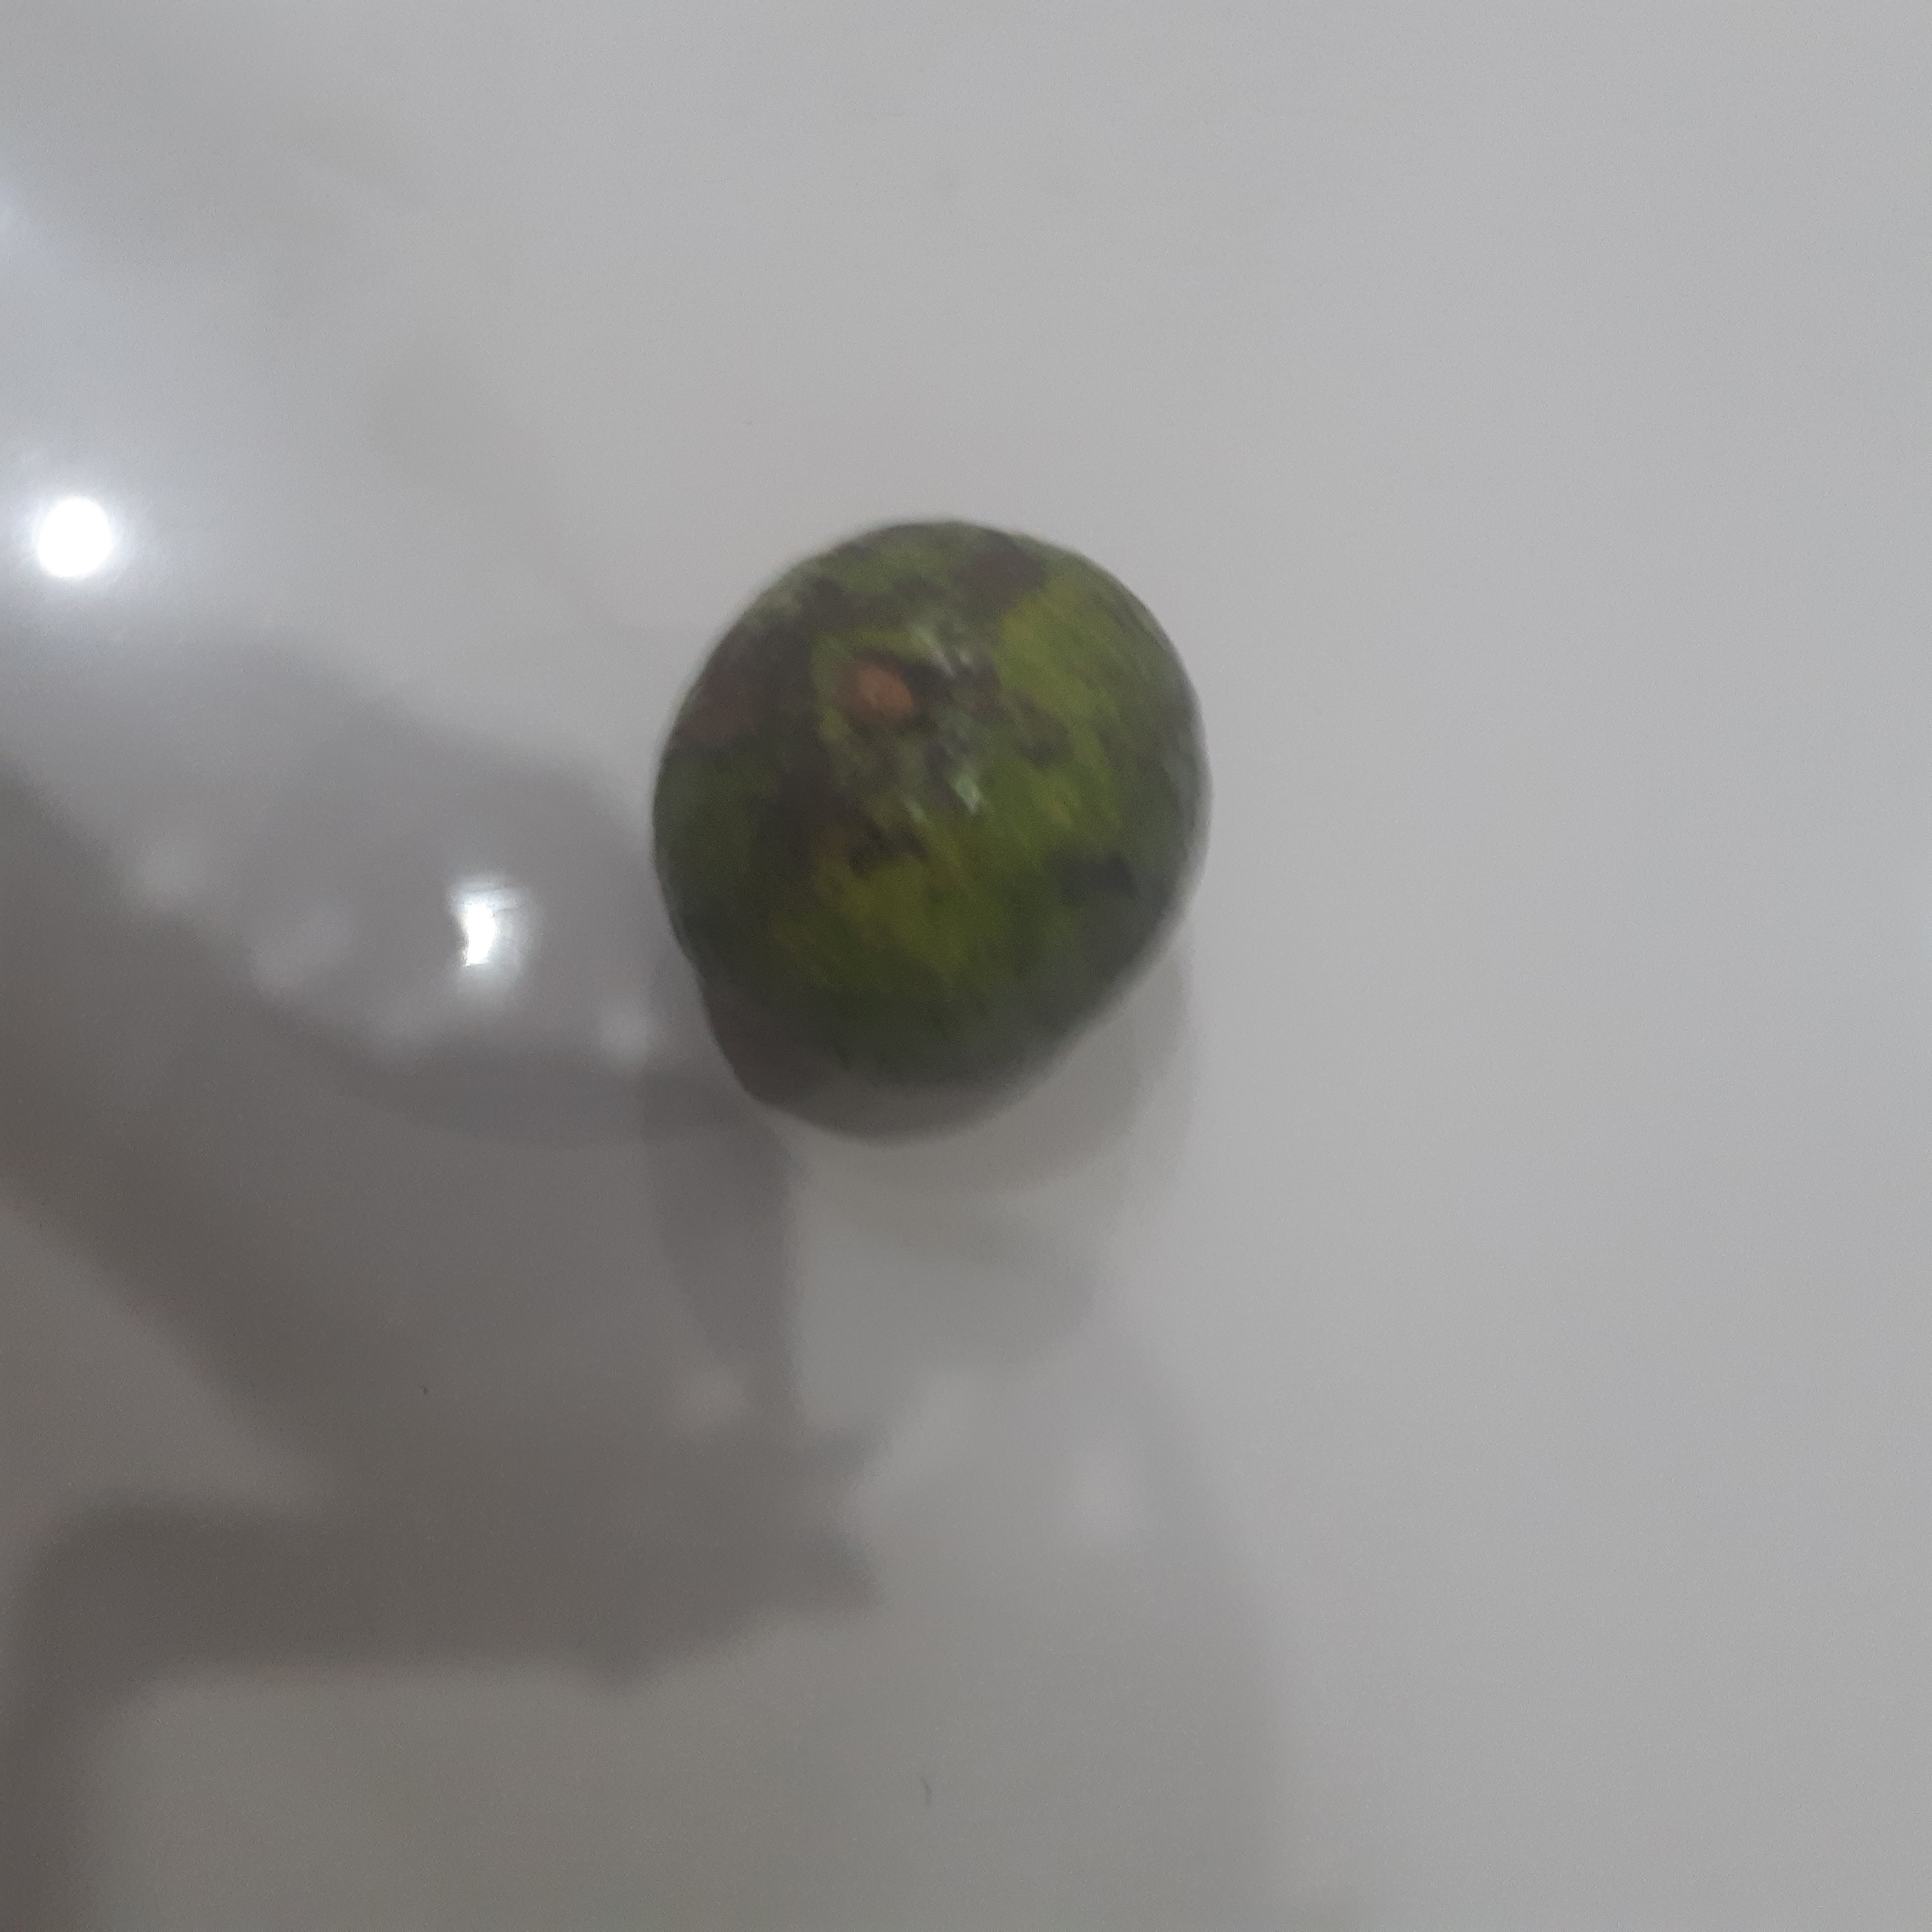Bo: (644, 515, 1212, 1090)
